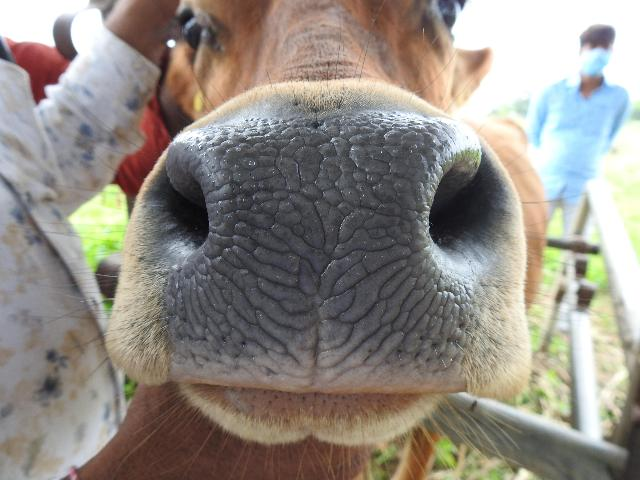Muzzle: (206, 126, 430, 374)
